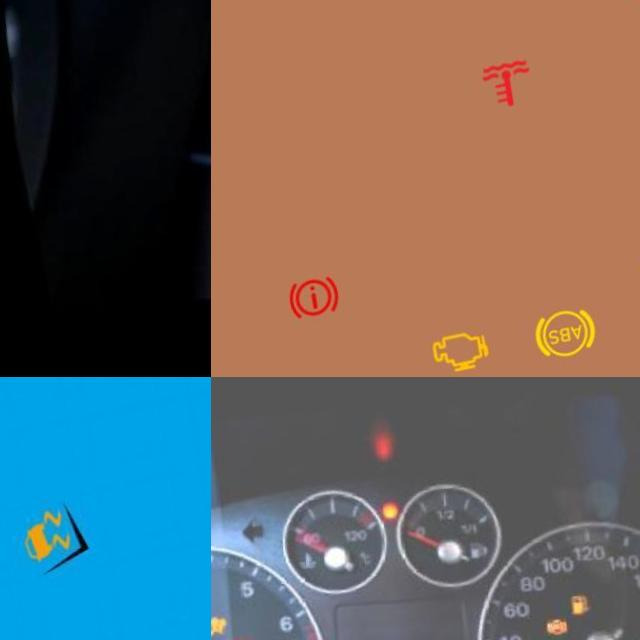High Engine Coolant Temperature: (465, 62, 536, 137)
Low fuel level: (555, 600, 579, 628)
